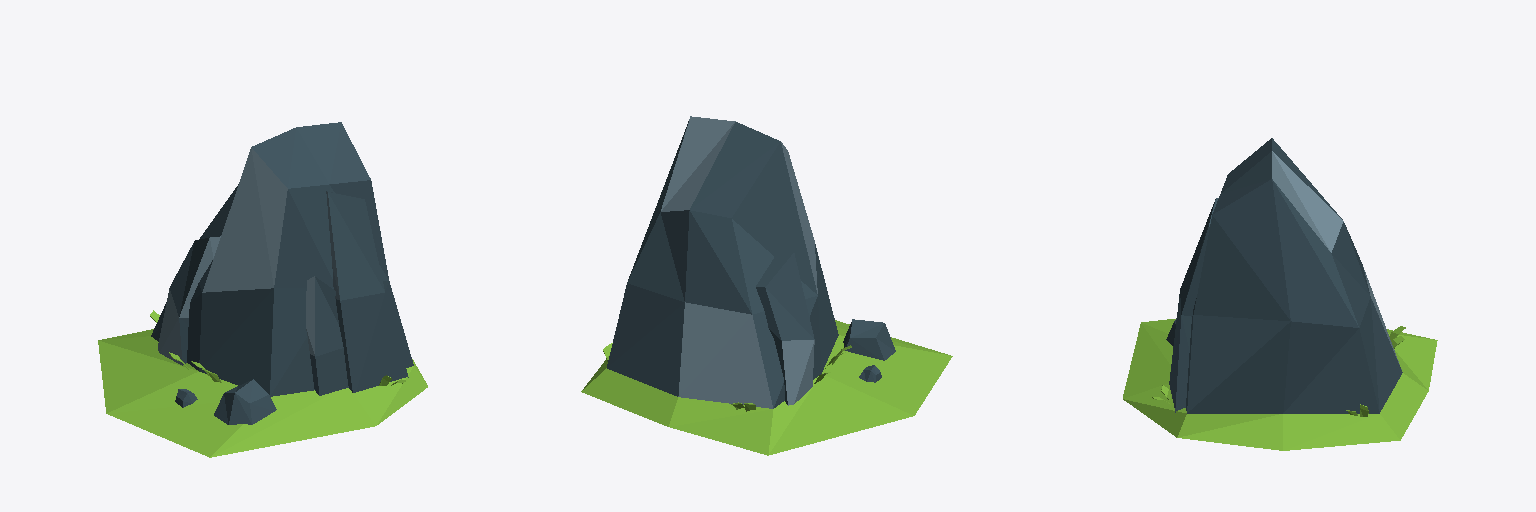
Rendered from boulder_03.obj.
3 renders of one model, left to right at view 1: azimuth 30°, elevation 25°; view 2: azimuth 150°, elevation 25°; view 3: azimuth 270°, elevation 25°, orthographic.
Visible parts, largest first — view 1: boulder_01_Cube.009; view 2: boulder_01_Cube.009; view 3: boulder_01_Cube.009.
Part boxes in pixels (x1,y1,x2,y2): boulder_01_Cube.009: (98,122,427,457); boulder_01_Cube.009: (581,116,952,455); boulder_01_Cube.009: (1123,138,1437,450).
Bounding box in the file's own units: 250 × 198 × 230.